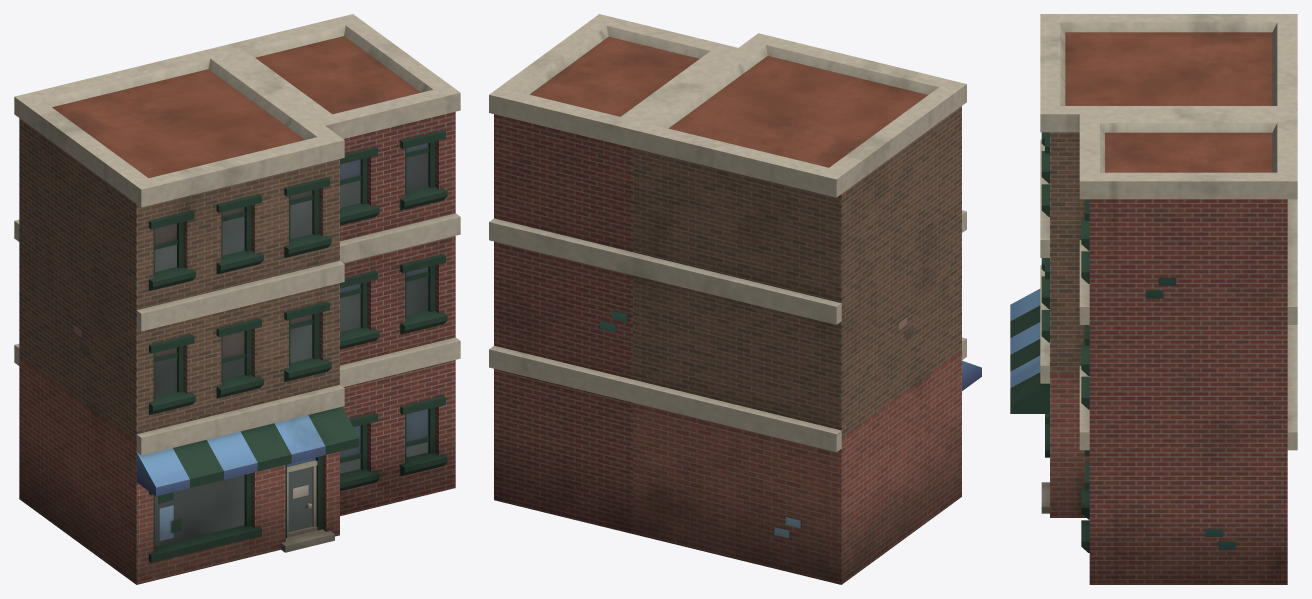
File: building_G.glb
The picture shows the model from 3 angles, left to right: view 1: azimuth 30°, elevation 25°; view 2: azimuth 150°, elevation 25°; view 3: azimuth 270°, elevation 25°; orthographic projection. The views are drawn at different scales.
Visible parts, largest first — view 1: building_G_withoutBase; view 2: building_G_withoutBase; view 3: building_G_withoutBase.
Part boxes in pixels (box(x1,y1,x2,y2)): building_G_withoutBase: box(14, 14, 460, 584); building_G_withoutBase: box(489, 14, 981, 584); building_G_withoutBase: box(1010, 14, 1297, 584).
Bounding box in the file's own units: 2.01 × 2.25 × 1.45.
Materials: 2 (2 with a texture image).
